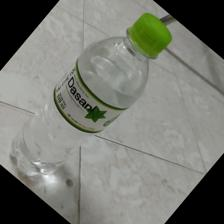Dasani: (11, 11, 172, 189)
